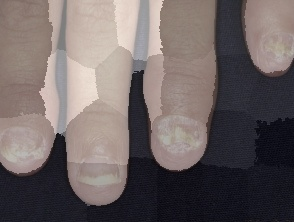Nail_psoriasis: (151, 109, 206, 160), (0, 121, 50, 166), (260, 31, 294, 65)
